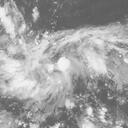cyclone: (25, 26, 107, 102)
